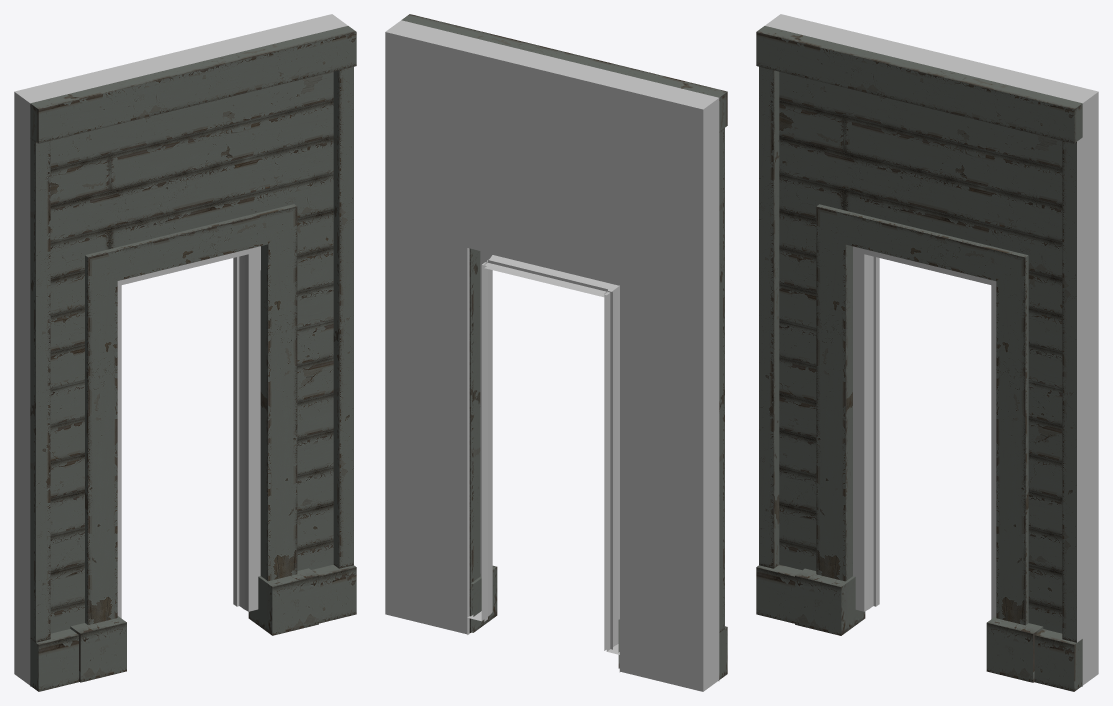
The model's file is SM_EWall200Door.FBX.
3 renders of one model, left to right at view 1: azimuth 30°, elevation 25°; view 2: azimuth 150°, elevation 25°; view 3: azimuth 330°, elevation 25°, orthographic.
Visible parts, largest first — view 1: SM_EWall200Door; view 2: SM_EWall200Door; view 3: SM_EWall200Door.
Part boxes in pixels (left/top/right/bottom): SM_EWall200Door: left=14, top=14, right=356, bottom=691; SM_EWall200Door: left=385, top=14, right=727, bottom=691; SM_EWall200Door: left=756, top=14, right=1098, bottom=691.
Bounding box in the file's own units: 200 × 351 × 28.49.
